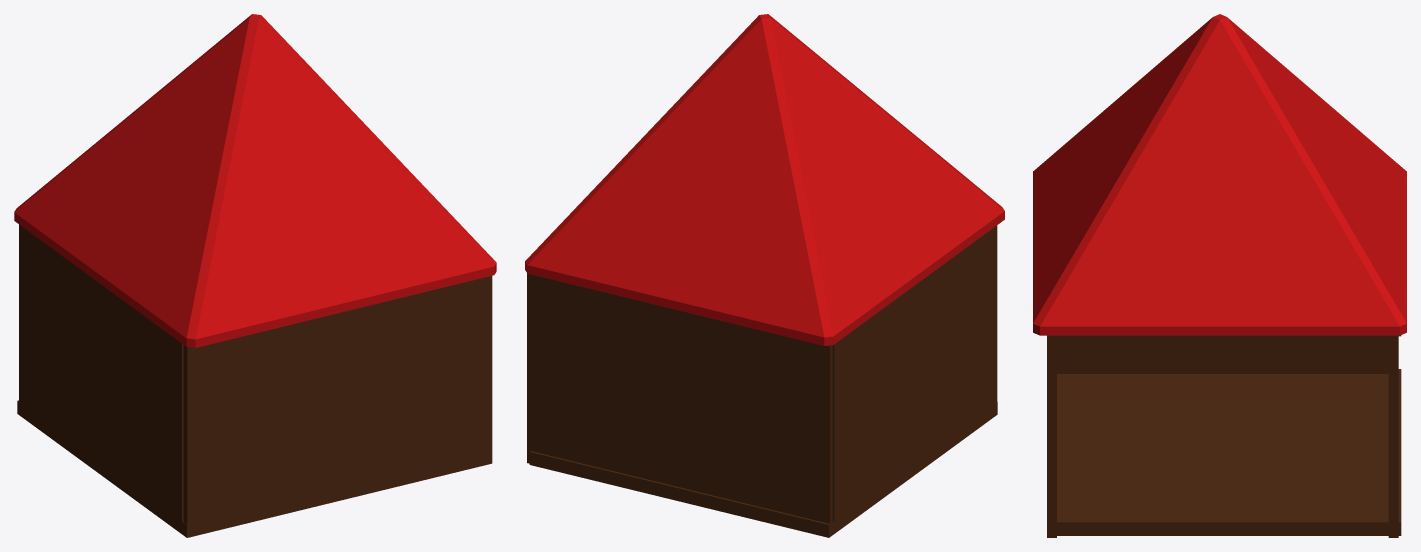
File: house.obj
3 views of the same model, side by side, from view 1: azimuth 30°, elevation 25°; view 2: azimuth 150°, elevation 25°; view 3: azimuth 270°, elevation 25° (orthographic). The views are drawn at different scales.
Parts seen in each view (by area): view 1: Cube.005, Cube.001, Cube.003, Cube; view 2: Cube.005, Cube.002, Cube.003, Cube; view 3: Cube.005, Cube, Cube.003, Cube.002, Cube.001, Cube.004.
Boxes of the visible parts, box(x1,y1,x2,y2) form: Cube.005: box(14, 14, 496, 347); Cube.001: box(183, 276, 492, 537); Cube.003: box(20, 225, 183, 522); Cube: box(17, 400, 187, 537); Cube.005: box(525, 14, 1004, 345); Cube.002: box(527, 273, 832, 523); Cube.003: box(832, 227, 995, 522); Cube: box(529, 401, 997, 537); Cube.005: box(1033, 14, 1406, 335); Cube: box(1057, 369, 1401, 535); Cube.003: box(1057, 336, 1388, 373); Cube.002: box(1388, 335, 1398, 537); Cube.001: box(1047, 335, 1056, 537); Cube.004: box(1057, 335, 1401, 336).
Bounding box in the file's own units: 4.24 × 5.54 × 4.24.
